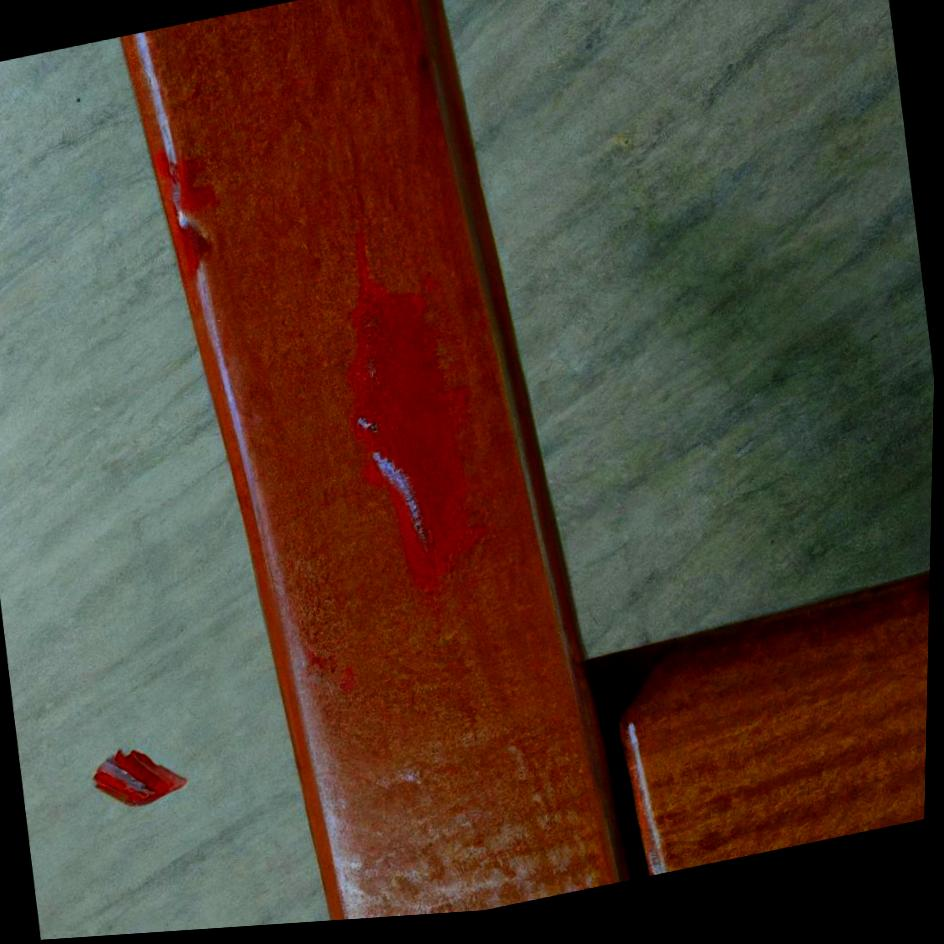Fire: (350, 237, 491, 604), (158, 155, 220, 215), (178, 228, 212, 280)
